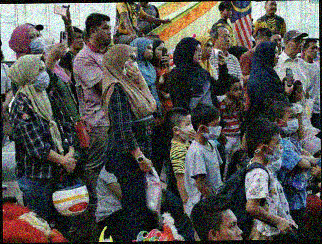mask_weared_incorrect: (264, 137, 284, 163)
with_mask: (33, 64, 50, 92), (281, 111, 300, 136), (28, 30, 46, 53), (206, 119, 222, 141), (181, 118, 195, 140), (127, 53, 138, 77)
without_mask: (217, 218, 245, 241), (97, 23, 112, 45), (290, 36, 306, 54), (218, 32, 232, 49), (229, 83, 243, 100), (306, 44, 319, 60), (203, 42, 214, 60), (192, 45, 203, 63), (72, 34, 84, 50), (294, 87, 306, 102), (155, 44, 166, 59), (272, 48, 280, 66), (272, 37, 283, 50), (223, 6, 234, 19), (145, 45, 154, 60), (221, 9, 234, 19)
